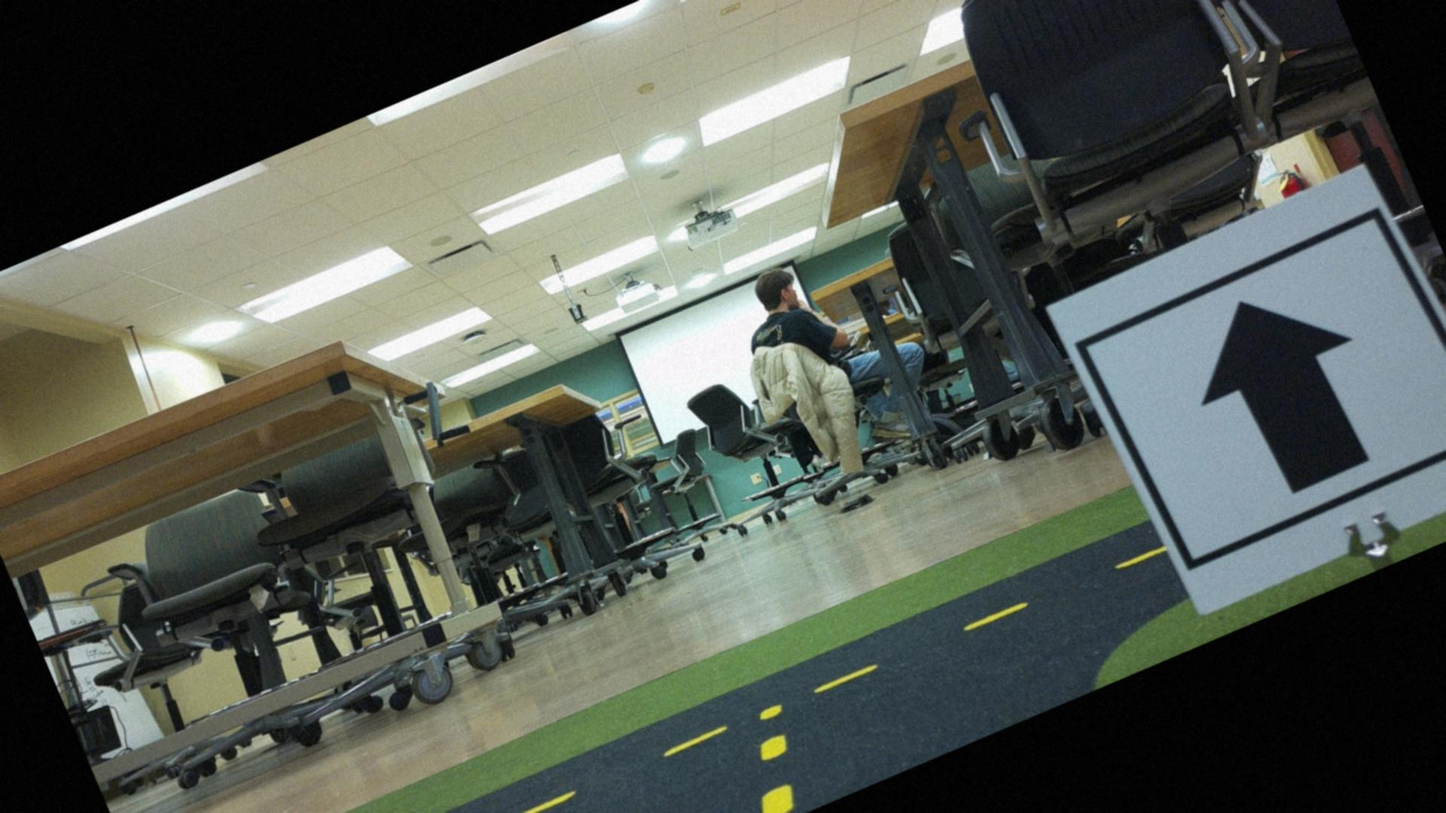gostraight: (1065, 166, 1445, 613)
yellowline: (172, 540, 1167, 812), (721, 696, 822, 812)
